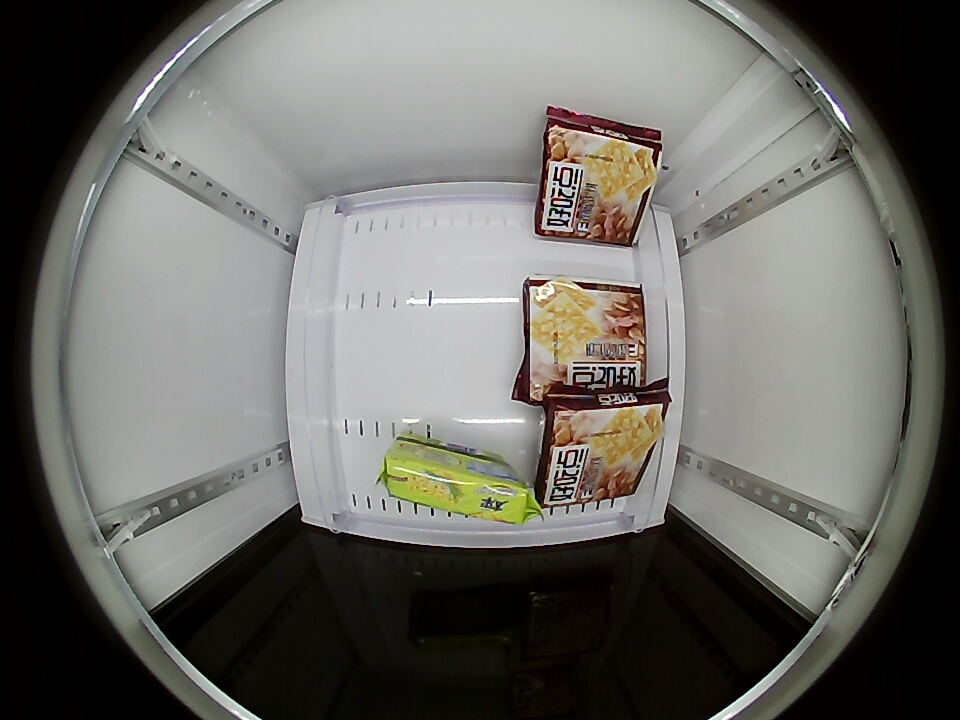haochidian: (521, 282, 649, 393), (537, 395, 668, 456), (538, 109, 659, 168)
taipingshuda: (382, 442, 535, 526)
